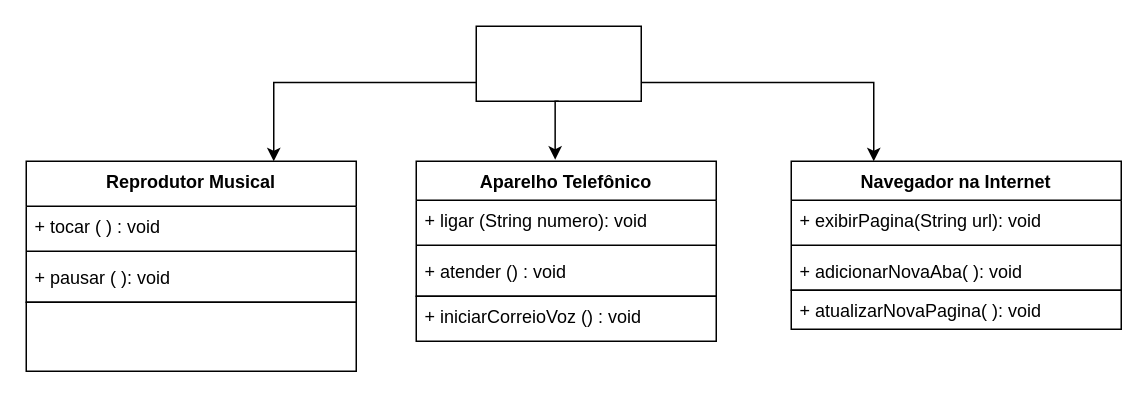
This 1148x402 diagram has some shape labels left out. The box of each missing label's shape, as (x1, y1, x2, y2) in pixels:
+ selecionarMusica (String musica): void: (25, 301, 356, 371)
Iphone: (475, 25, 641, 101)
